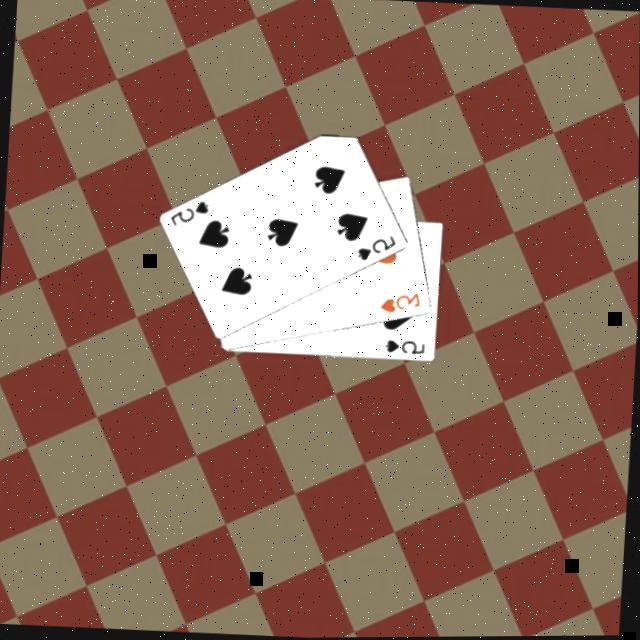3H: (378, 291, 424, 320)
5S: (355, 234, 401, 268), (168, 198, 212, 232), (384, 338, 429, 359)
